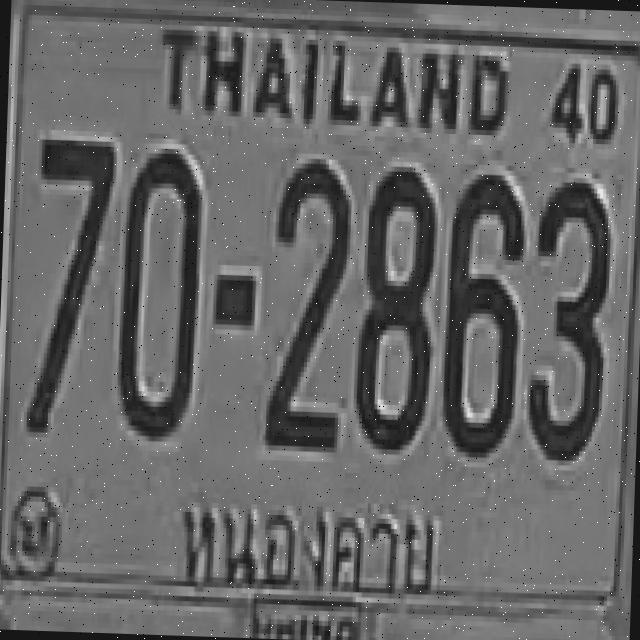0: (115, 144, 204, 440)
2: (263, 154, 351, 450)
3: (524, 176, 609, 461)
6: (438, 168, 523, 453)
7: (24, 134, 116, 434)
8: (352, 162, 436, 452)
NongKhai: (168, 480, 444, 618)
